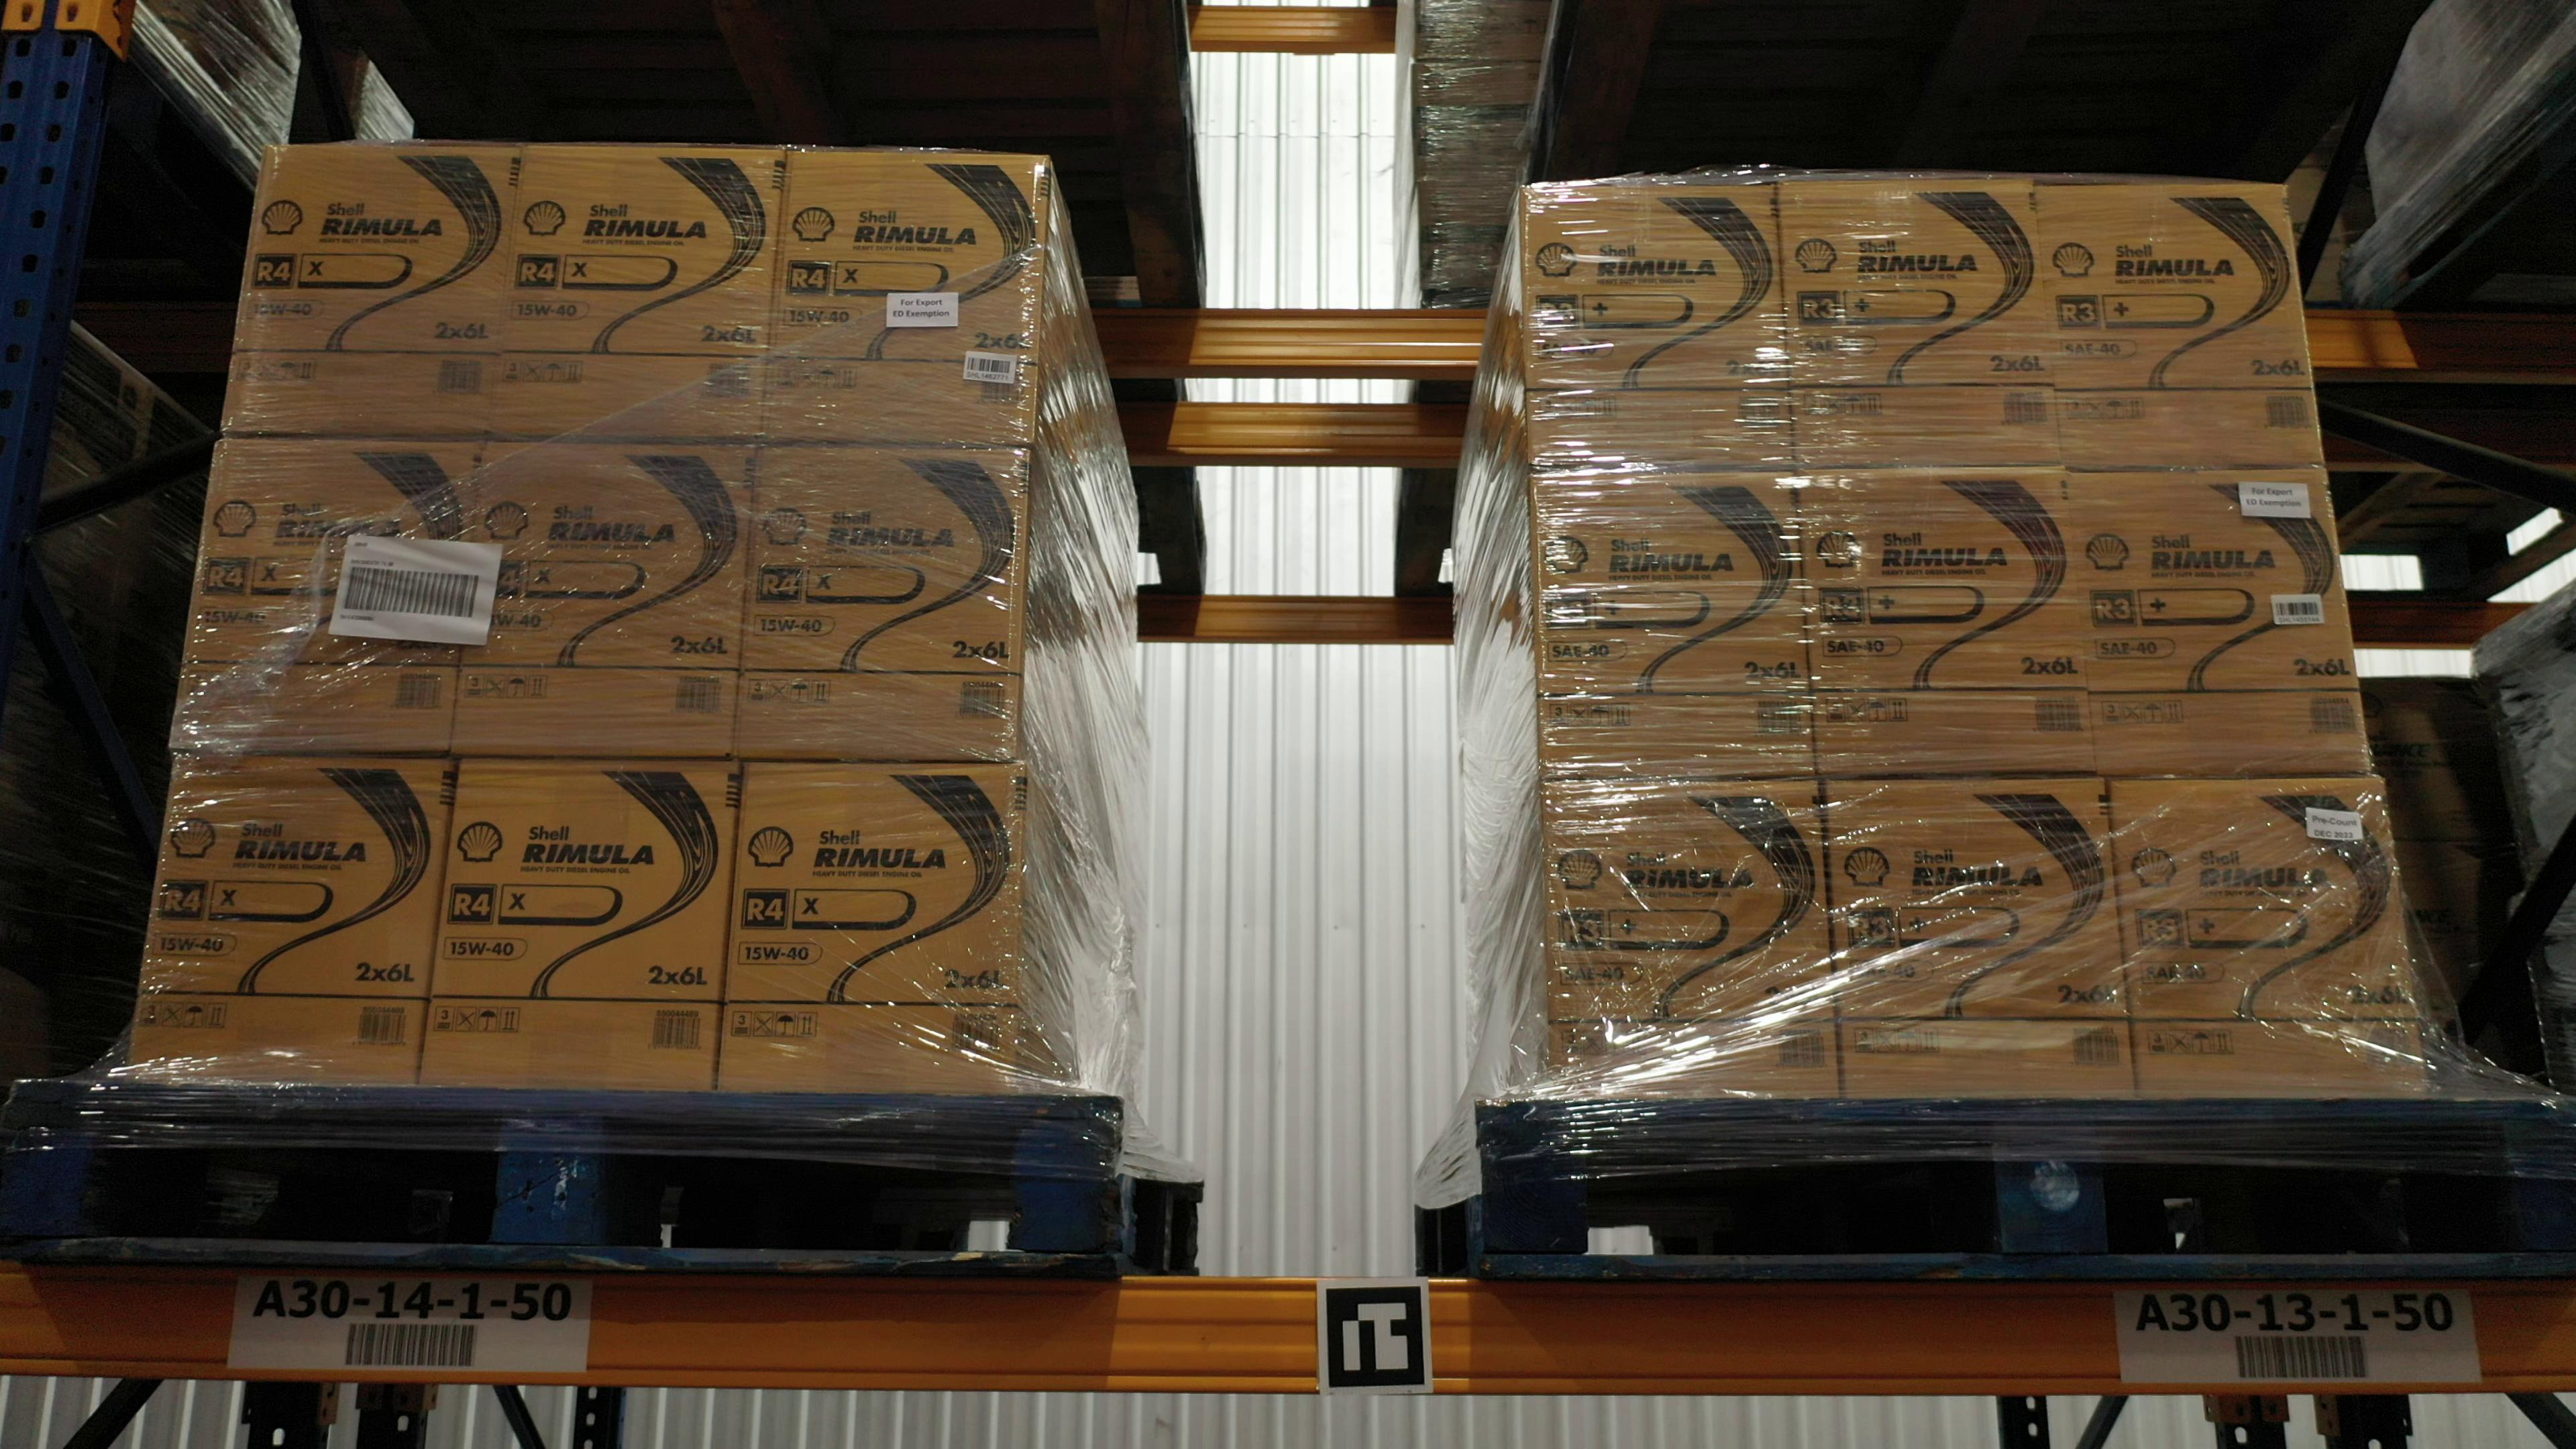-: (124, 748, 464, 1090), (416, 757, 743, 1095), (713, 757, 1024, 1099), (1822, 773, 2141, 1102), (2111, 777, 2429, 1100), (170, 433, 483, 755), (448, 439, 755, 757), (1541, 773, 1842, 1095), (731, 446, 1031, 764), (2068, 467, 2374, 778), (1798, 465, 2098, 778), (218, 143, 524, 442), (490, 143, 789, 446), (1534, 469, 1813, 778), (763, 150, 1051, 448), (2035, 180, 2325, 469), (1776, 175, 2061, 469), (1518, 184, 1796, 472)
